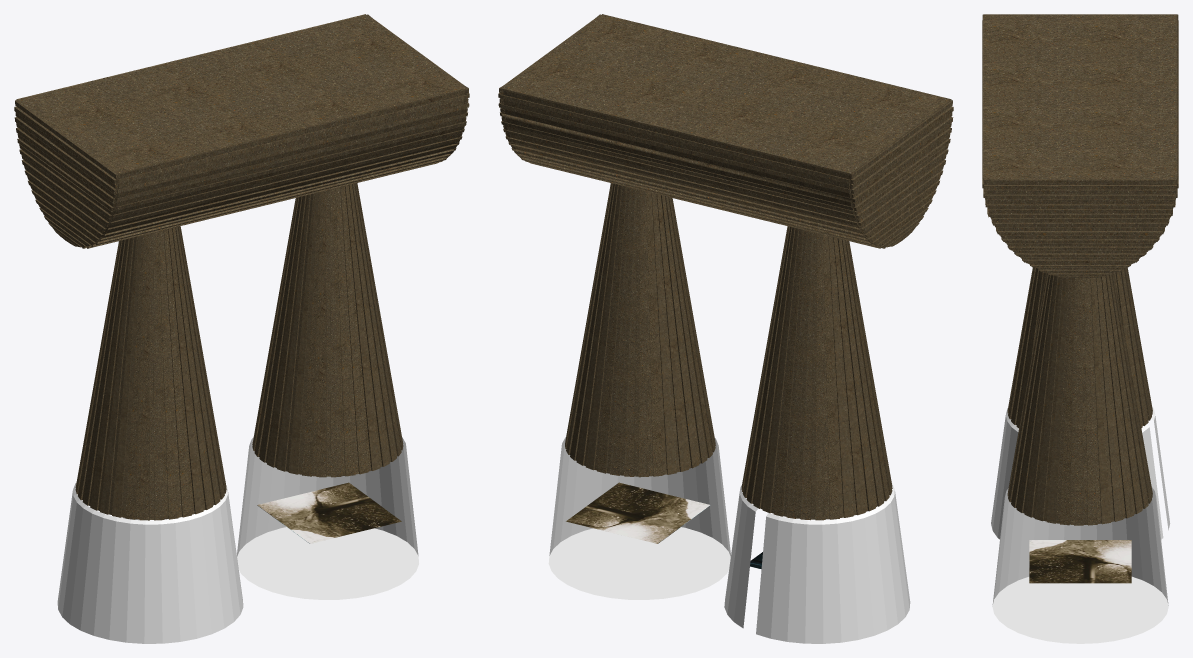
Rendered from spomenikmitrovica.glb.
The picture shows the model from 3 angles, left to right: view 1: azimuth 30°, elevation 25°; view 2: azimuth 150°, elevation 25°; view 3: azimuth 270°, elevation 25°; orthographic projection. The views are drawn at different scales.
Visible parts, largest first — view 1: Cylinder.001, tunnel, Circle.002, Circle.001, videotarget; view 2: Cylinder.001, tunnel, Circle.002, Circle.001, videotarget; view 3: Cylinder.001, Circle.001, tunnel, Circle.002, videotarget.
Boxes of the visible parts, box(x1,y1,x2,y2) form: Cylinder.001: box(14, 14, 469, 248); tunnel: box(57, 437, 418, 643); Circle.002: box(75, 226, 226, 520); Circle.001: box(252, 183, 403, 477); videotarget: box(257, 482, 401, 543); Cylinder.001: box(498, 14, 953, 248); tunnel: box(548, 437, 910, 643); Circle.002: box(741, 226, 892, 520); Circle.001: box(565, 183, 715, 477); videotarget: box(566, 482, 762, 569); Cylinder.001: box(982, 14, 1178, 277); Circle.001: box(1007, 273, 1152, 525); tunnel: box(991, 406, 1170, 643); Circle.002: box(1007, 267, 1152, 428); videotarget: box(1029, 540, 1131, 583).
Size of what is drawn, in the model's own units: 19.25 by 25.31 by 9.59.
4 materials, 3 textured.
